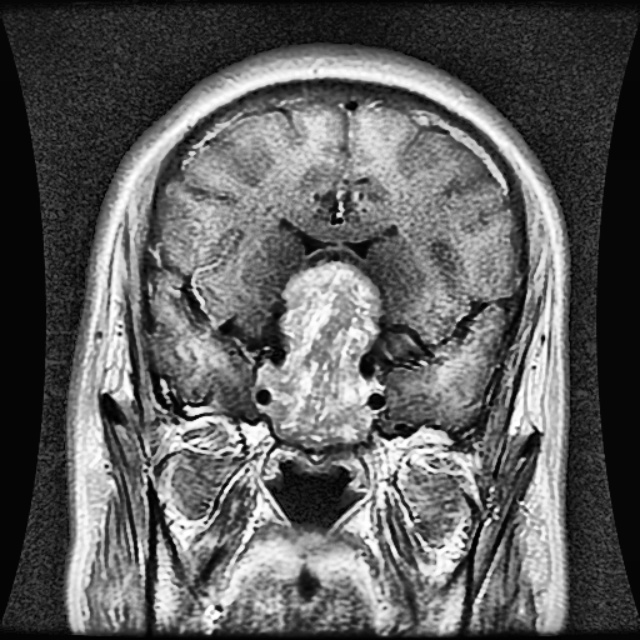Pituitary: (260, 265, 382, 444)
